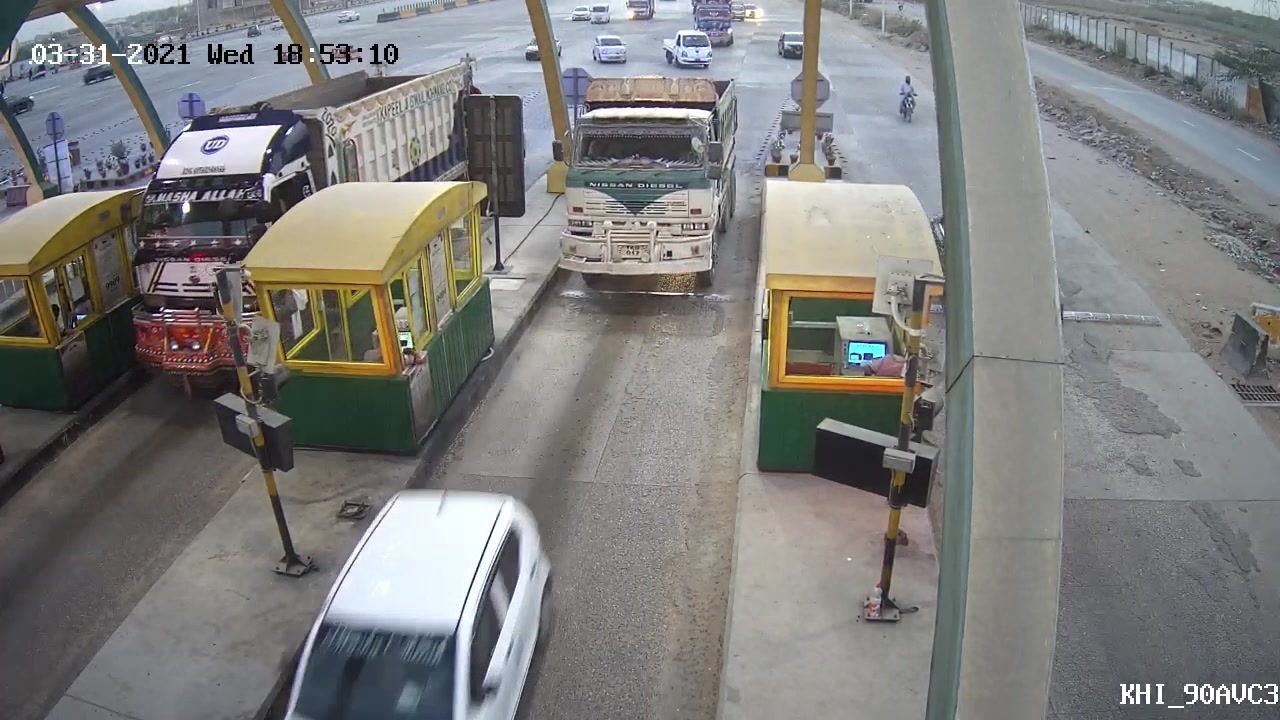F5: (550, 69, 745, 299)
